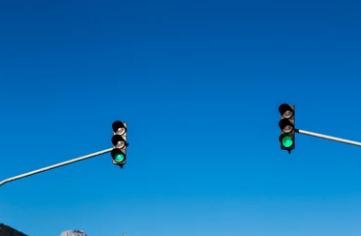green_light: (278, 103, 295, 150), (111, 120, 128, 164)
